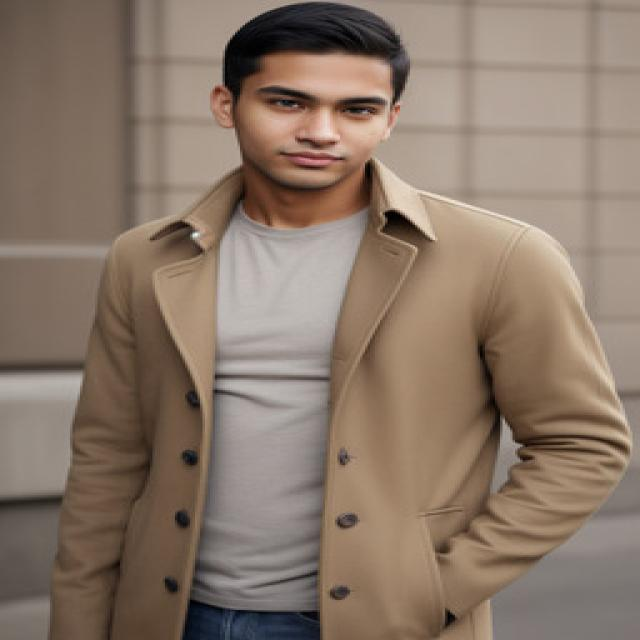Ai human 2: (50, 0, 640, 640)
